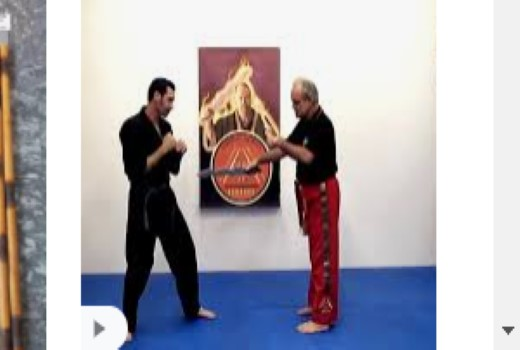baston_e: (1, 57, 32, 332), (200, 168, 250, 178)
baston_v: (192, 165, 204, 181), (0, 40, 11, 56)
